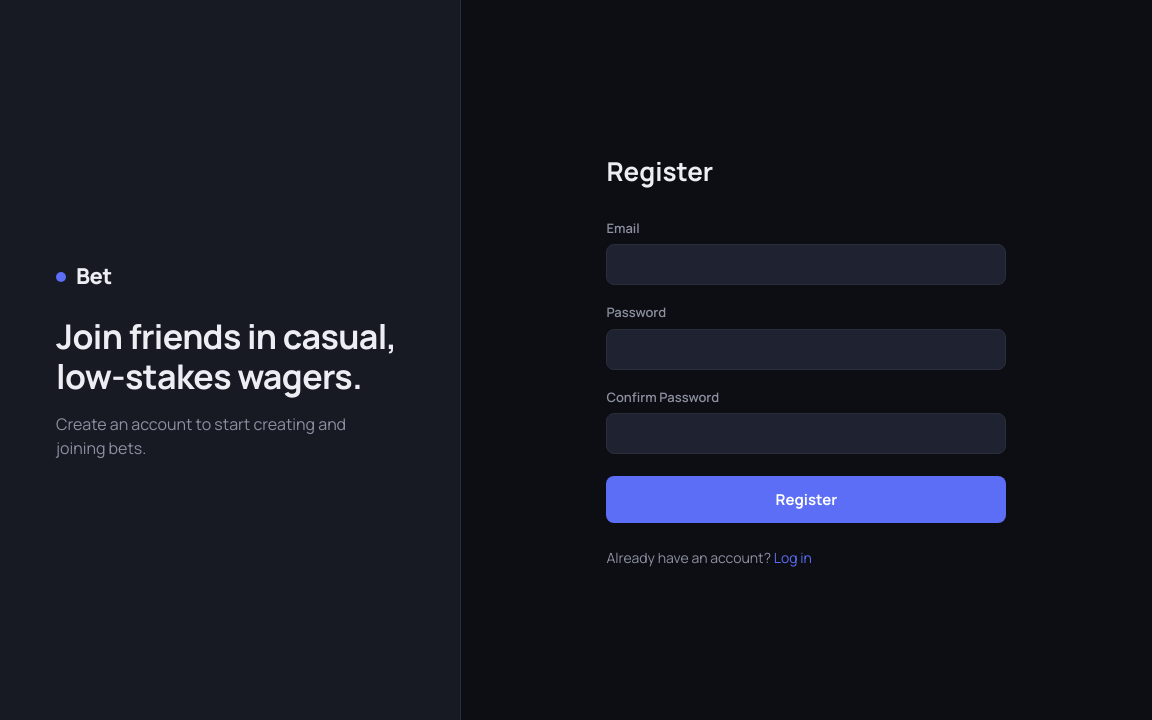
RegisterPage › does not send a verification email when registration fails
Type "test@example.com" into the field labelled "Email" at (806, 265), box x1=606 y1=244 x2=1006 y2=285
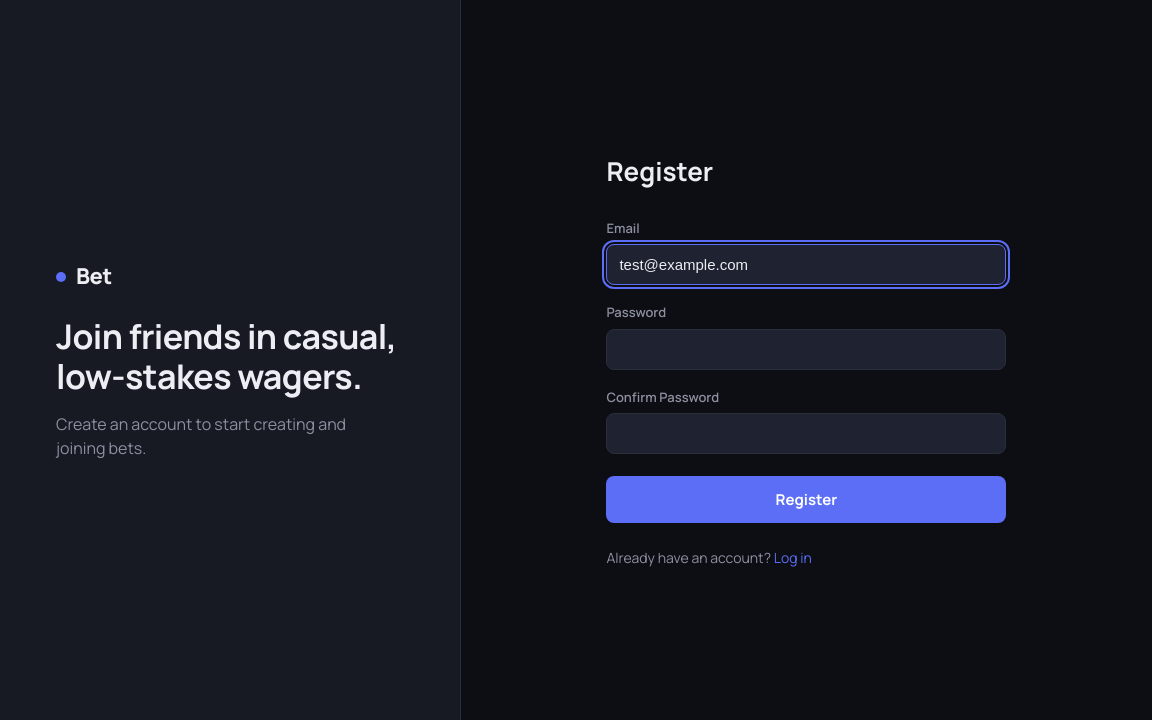
Type "password123" into the password field labelled "Password" at (806, 349), box x1=606 y1=329 x2=1006 y2=370
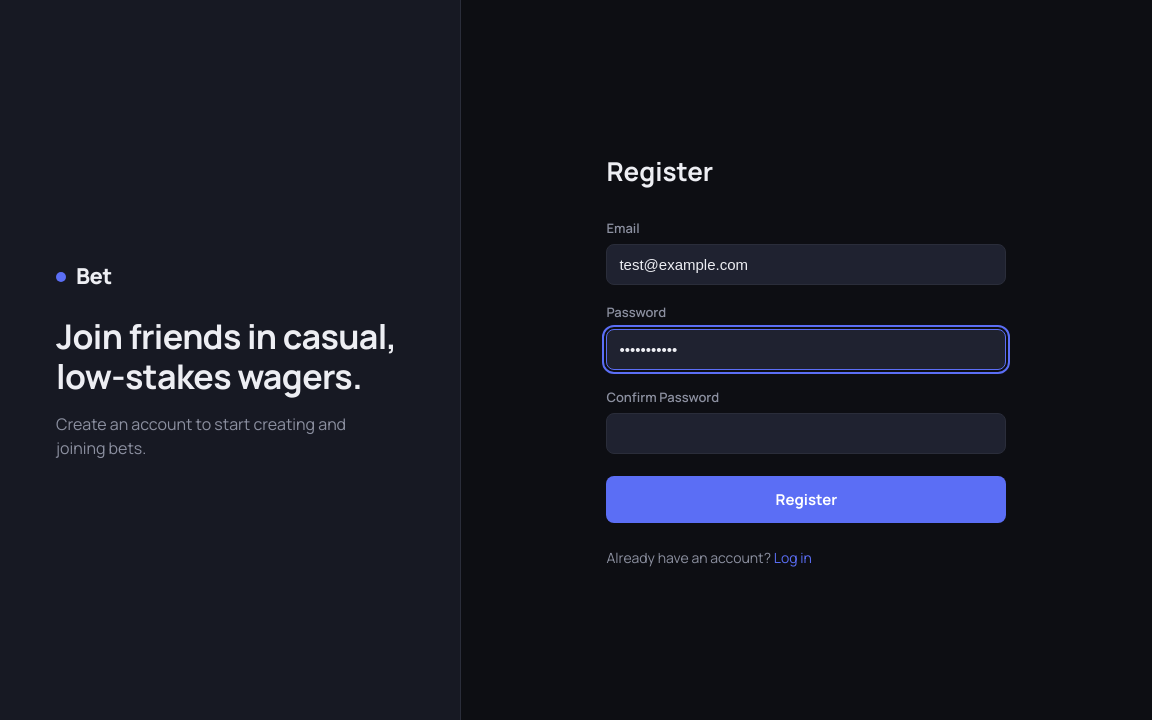
Type "password123" into the password field labelled "Confirm Password" at (806, 434), box x1=606 y1=413 x2=1006 y2=454
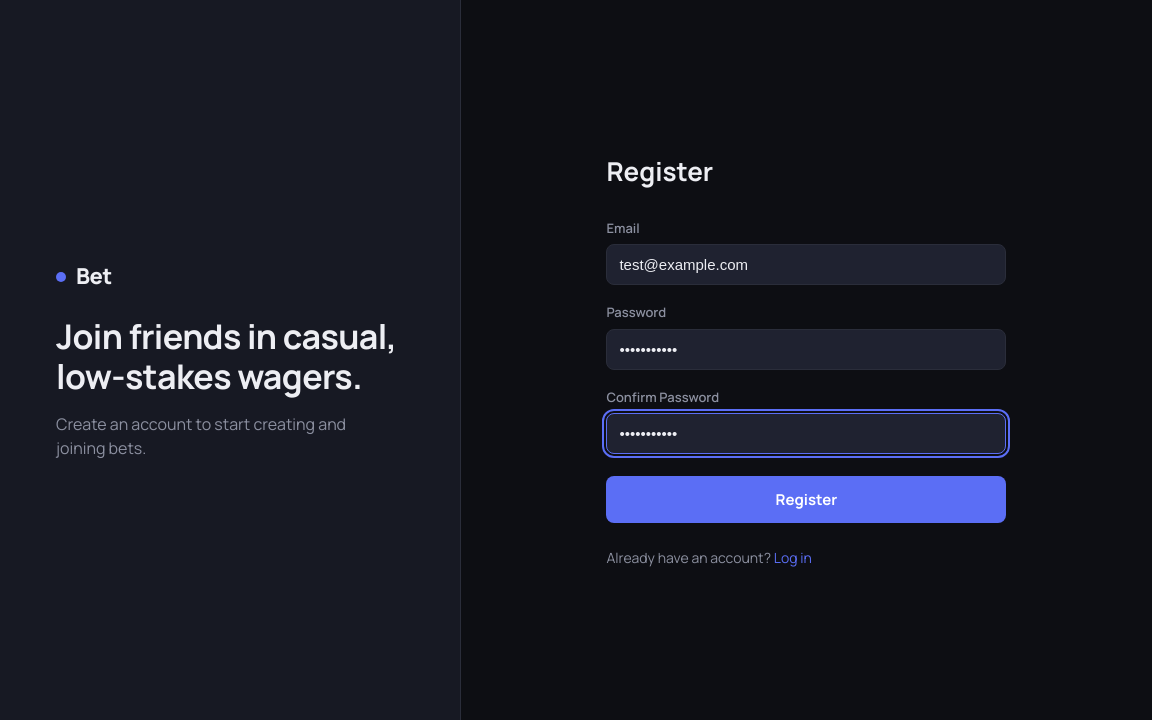
Click the button "Register" at (806, 500), box x1=606 y1=476 x2=1006 y2=523
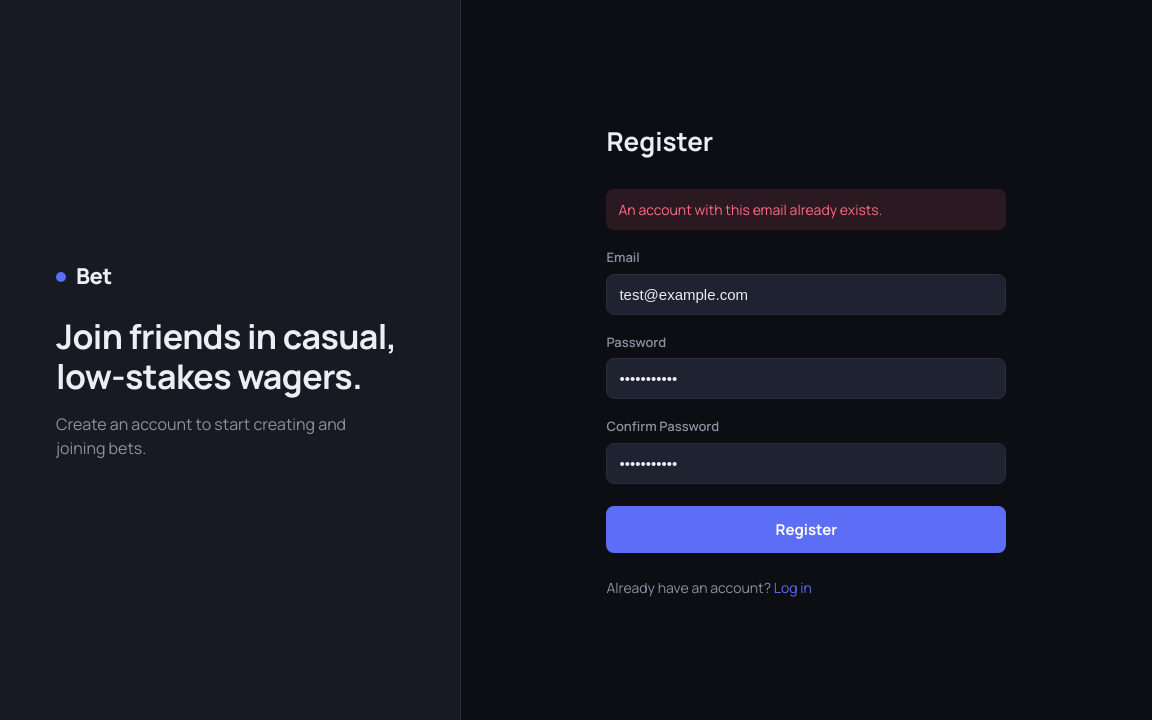
Expected: the message "An account with this email already exists." is shown, x1=606 y1=189 x2=1006 y2=230
